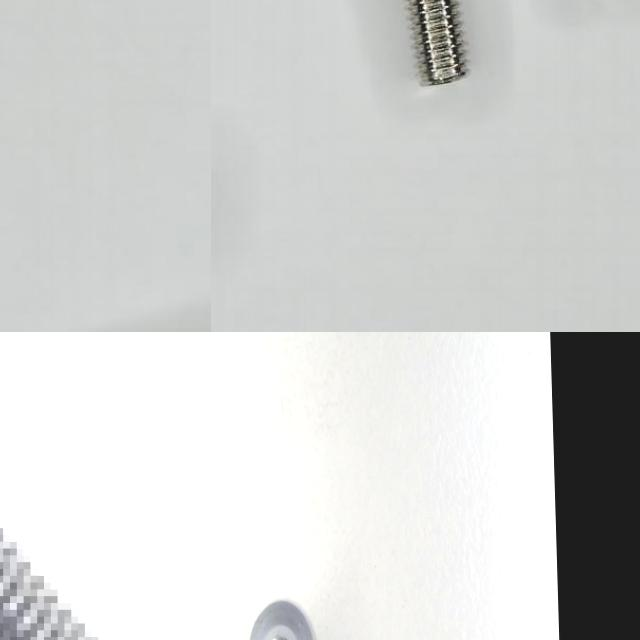Screw: (415, 0, 465, 83), (250, 601, 315, 640)
